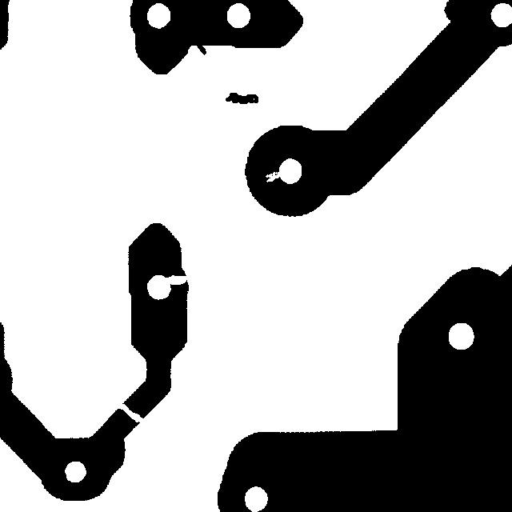copper: (218, 85, 266, 111)
mousebite: (258, 164, 291, 190)
open: (105, 396, 151, 430), (156, 267, 197, 292)
spur: (187, 34, 214, 62)
